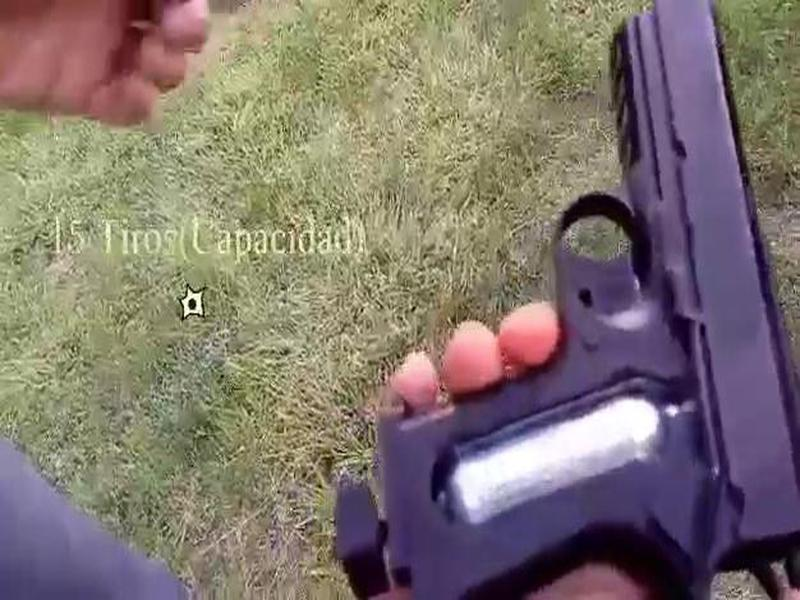Pistola: (329, 1, 796, 597)
